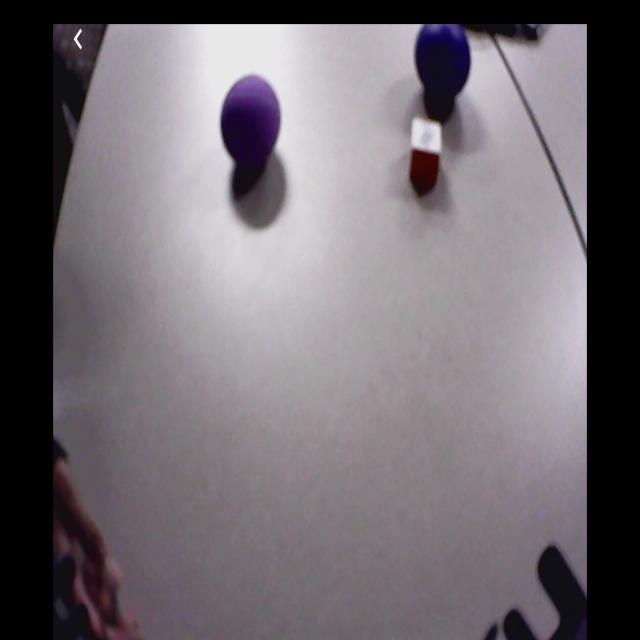ball: (222, 75, 281, 169), (416, 28, 473, 99)
